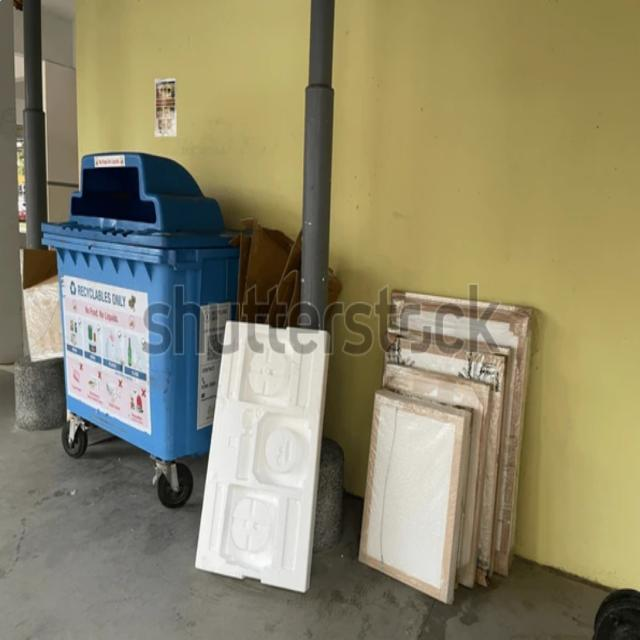bin_empty: (41, 156, 242, 497)
bulk_waste: (352, 284, 554, 617), (186, 315, 343, 617)
